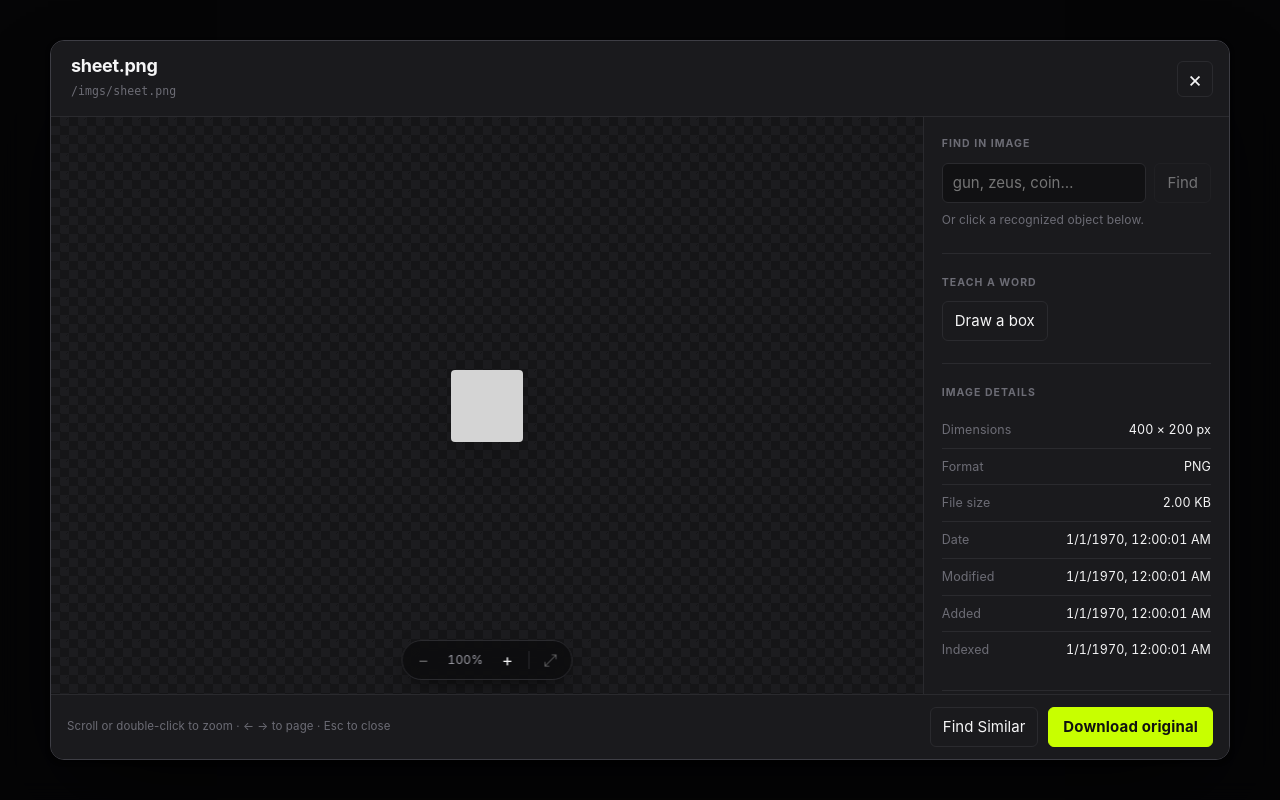
it: ImageModal boxes › teaches a word from a drawn box and tags the image
Click the button "Draw a box" at (995, 321), box top-left (942, 301), bottom-right (1048, 341)
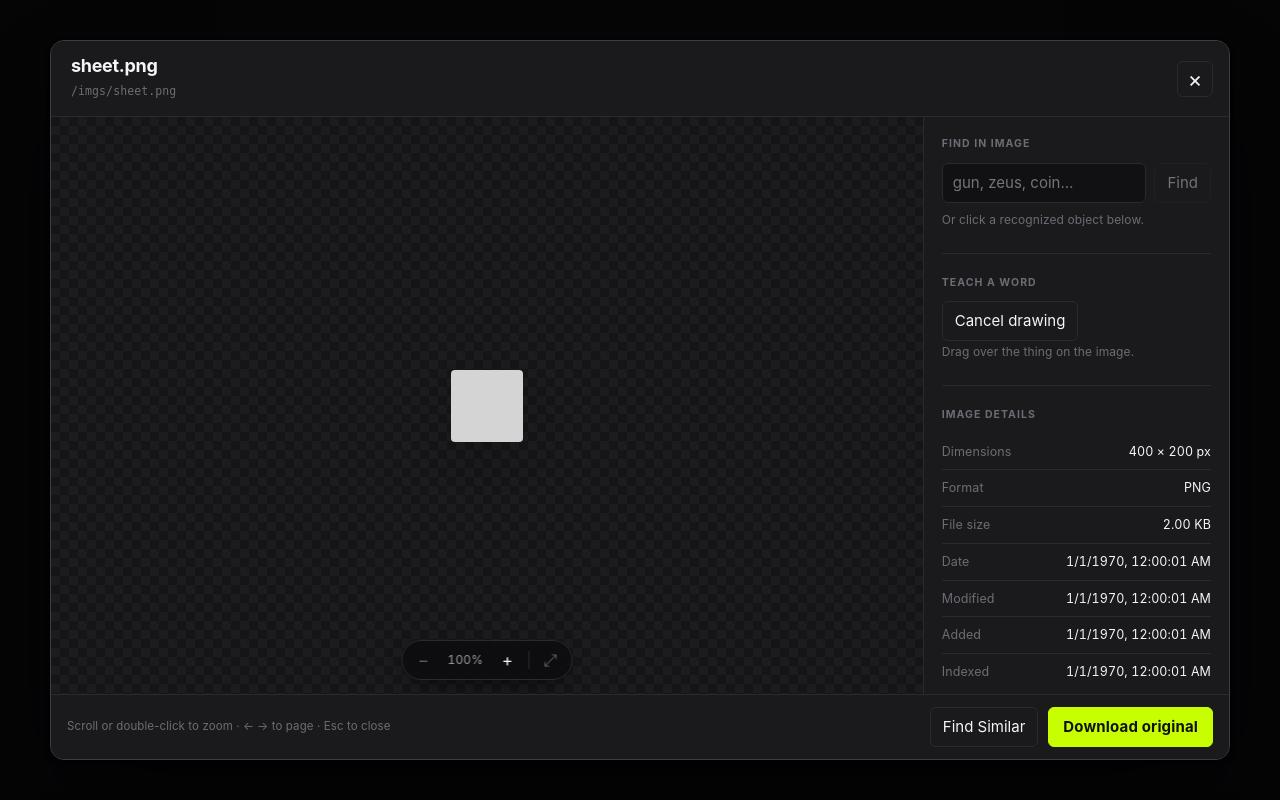
Press the mouse on the element with test id "box-overlay" at (651, 470), box top-left (451, 370), bottom-right (851, 570)
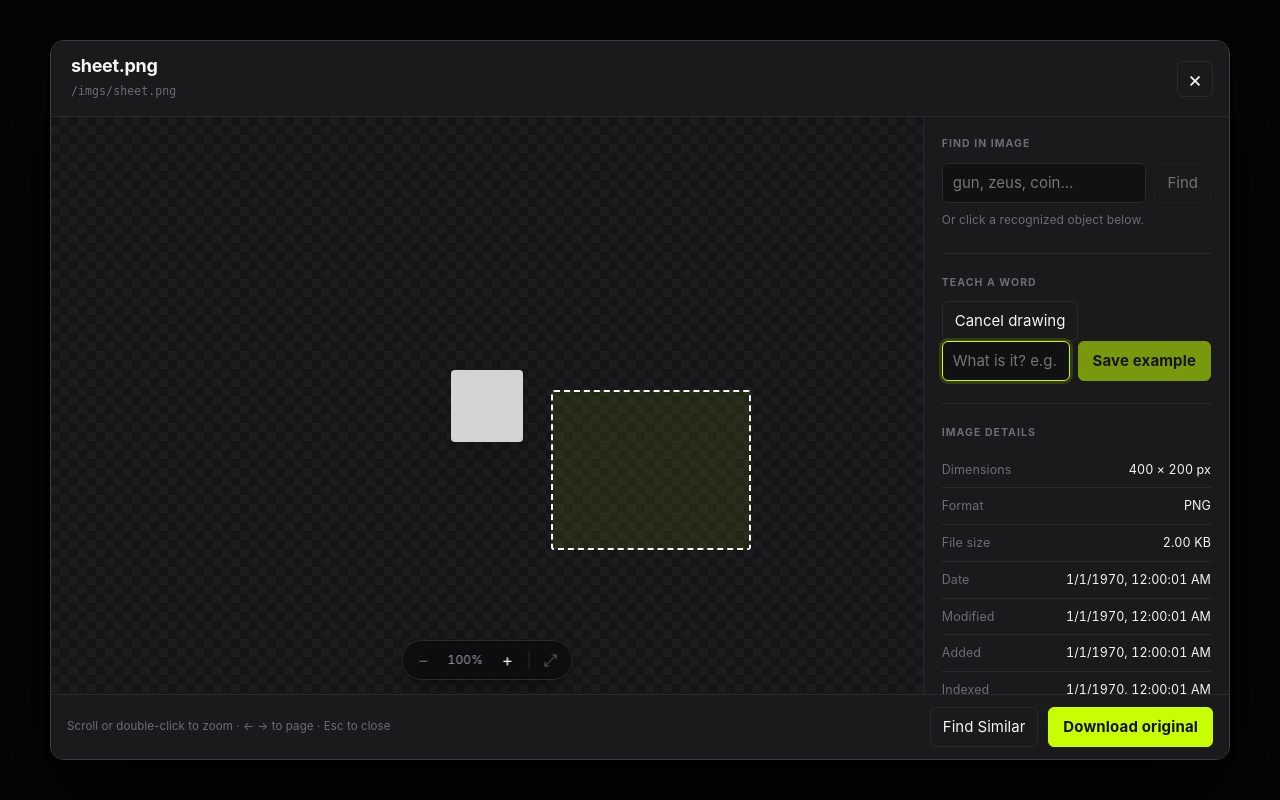
Type "zeus" into the field named "What is in the box" at (1006, 361), box top-left (942, 341), bottom-right (1070, 381)
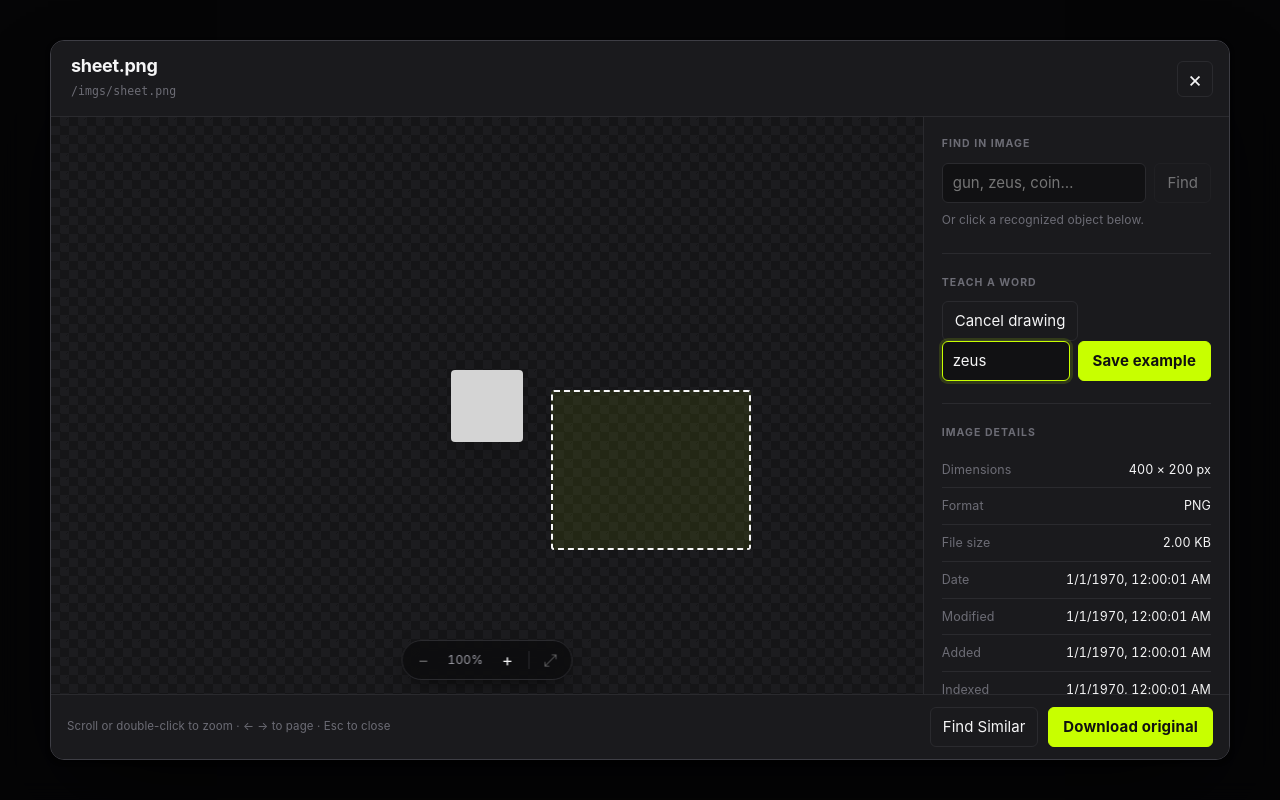
Click the button "Save example" at (1144, 361), box top-left (1078, 341), bottom-right (1211, 381)
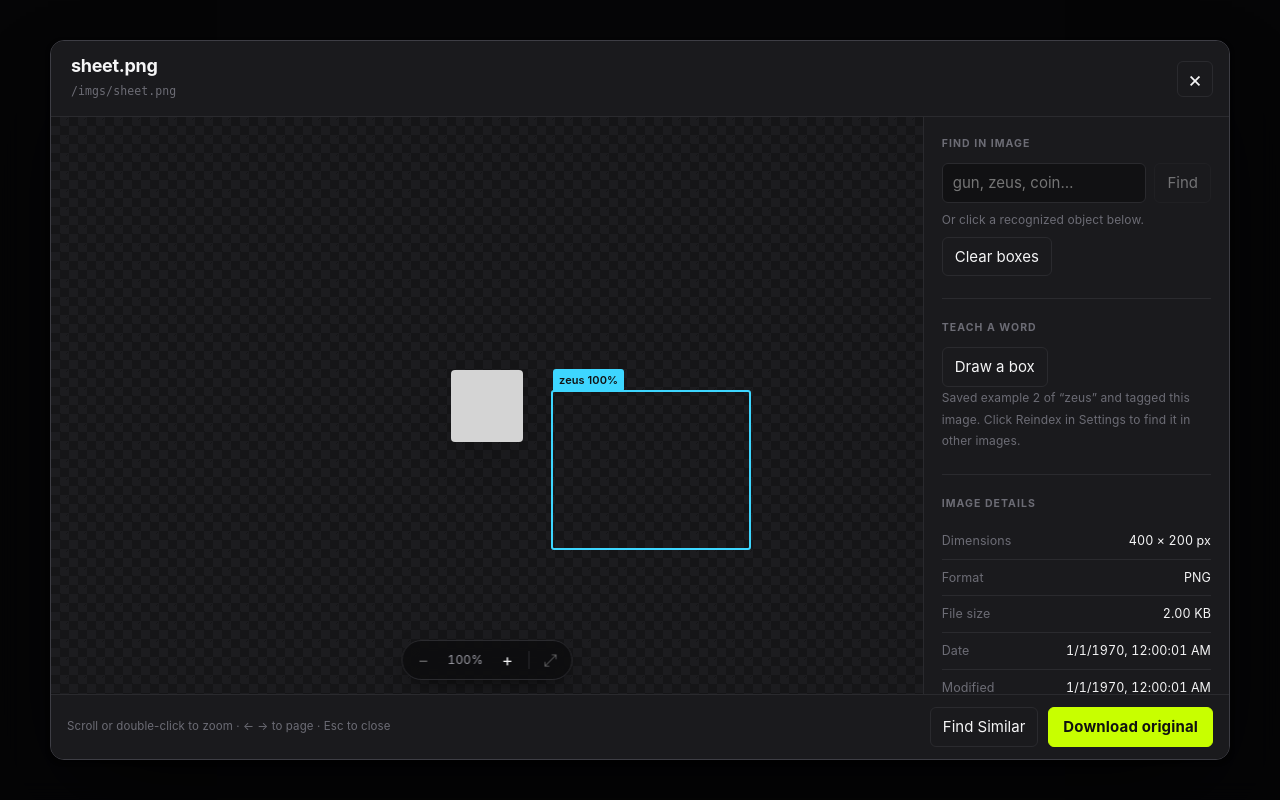
Expected: the text "Saved example 2 of “zeus”" is shown, top-left (942, 390), bottom-right (1190, 448)
